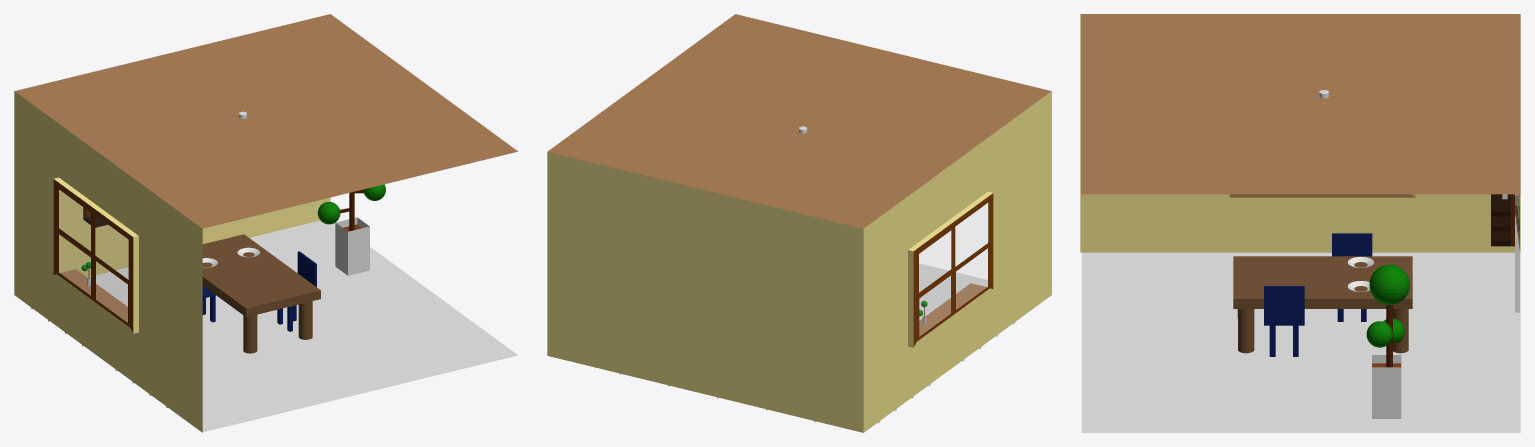
Rendered from Ruangan.glb.
3 views of the same model, side by side, from view 1: azimuth 30°, elevation 25°; view 2: azimuth 150°, elevation 25°; view 3: azimuth 270°, elevation 25° (orthographic). The views are drawn at different scales.
Parts seen in each view (by area): view 1: Cube, Cylinder.001, Cube.007, Sphere.003, Cube.002; view 2: Cube; view 3: Cube, Cylinder.001, Sphere.003, Cube.002, Cube.007, Cube.004, Cube.003, Cube.001.
Boxes of the visible parts, x1,y1,x2,y2 form: Cube: (14,14,517,432); Cylinder.001: (202,234,320,353); Cube.007: (335,217,369,275); Sphere.003: (317,184,385,230); Cube.002: (277,251,316,331); Cube: (547,14,1051,432); Cube: (1080,14,1520,432); Cylinder.001: (1233,256,1412,353); Sphere.003: (1366,264,1409,367); Cube.002: (1264,286,1304,356); Cube.007: (1372,355,1401,418); Cube.004: (1491,194,1514,246); Cube.003: (1332,233,1372,321); Cube.001: (1515,194,1519,312).
Size of the model in its own units: 6.6 by 4.13 by 6.69.
Materials: 20 (2 with a texture image).
